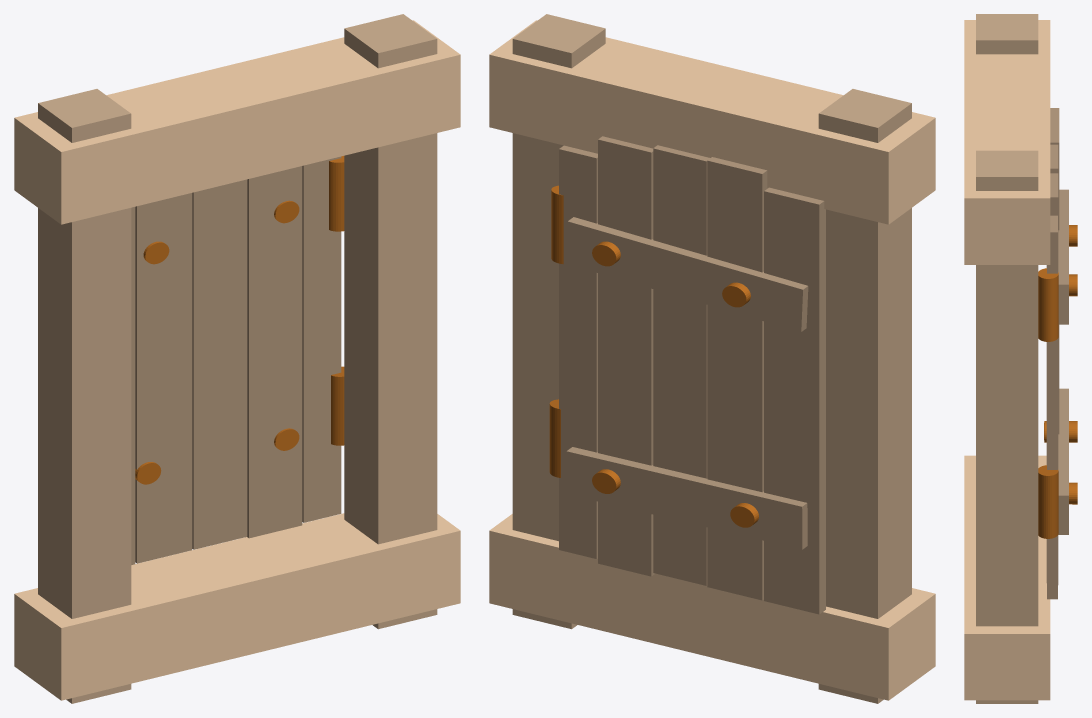
The model's file is Door.fbx.
3 renders of one model, left to right at view 1: azimuth 30°, elevation 25°; view 2: azimuth 150°, elevation 25°; view 3: azimuth 270°, elevation 25°, orthographic. The views are drawn at different scales.
Visible parts, largest first — view 1: Cube.006, Cube.016, Cube.015, Cube.014, Cube.017, Cube.020, Cube.018, Cube.019, Cube.021, Cylinder, Cylinder.001; view 2: Cube.006, Cube.015, Cube.016, Cube.021, Cube.014, Cube.020, Cube.018, Cube.017, Cube.019, Cube.022, Cube.023, Cylinder (+1 smaller); view 3: Cube.014, Cube.006, Cube.016, Cube.019, Cube.015, Cube.023, Cylinder, Cylinder.001, Cube.022, Cube.018, Cube.020, Cube.017 (+3 smaller).
Boxes of the visible parts, x1=… form: Cube.006: x1=14, y1=20, x2=460, y2=224; Cube.016: x1=14, y1=513, x2=460, y2=700; Cube.015: x1=38, y1=89, x2=131, y2=703; Cube.014: x1=344, y1=14, x2=437, y2=629; Cube.017: x1=192, y1=179, x2=247, y2=549; Cube.020: x1=135, y1=193, x2=192, y2=563; Cube.018: x1=247, y1=166, x2=302, y2=538; Cube.019: x1=302, y1=156, x2=341, y2=522; Cube.021: x1=131, y1=207, x2=135, y2=564; Cylinder: x1=329, y1=156, x2=344, y2=231; Cylinder.001: x1=331, y1=366, x2=344, y2=445; Cube.006: x1=489, y1=20, x2=935, y2=224; Cube.015: x1=818, y1=89, x2=911, y2=703; Cube.016: x1=489, y1=514, x2=935, y2=700; Cube.021: x1=764, y1=187, x2=825, y2=614; Cube.014: x1=512, y1=14, x2=605, y2=629; Cube.020: x1=707, y1=157, x2=767, y2=600; Cube.018: x1=598, y1=136, x2=655, y2=576; Cube.017: x1=653, y1=145, x2=709, y2=585; Cube.019: x1=559, y1=145, x2=597, y2=558; Cube.022: x1=566, y1=217, x2=808, y2=331; Cube.023: x1=566, y1=447, x2=807, y2=549; Cylinder: x1=551, y1=185, x2=563, y2=264; Cube.014: x1=976, y1=150, x2=1038, y2=703; Cube.006: x1=964, y1=20, x2=1050, y2=264; Cube.016: x1=964, y1=455, x2=1050, y2=700; Cube.019: x1=1047, y1=215, x2=1057, y2=599; Cube.015: x1=976, y1=14, x2=1038, y2=54; Cube.023: x1=1058, y1=388, x2=1068, y2=534; Cylinder: x1=1038, y1=268, x2=1058, y2=341; Cylinder.001: x1=1038, y1=465, x2=1058, y2=538; Cube.022: x1=1058, y1=189, x2=1068, y2=324; Cube.018: x1=1046, y1=173, x2=1058, y2=584; Cube.020: x1=1050, y1=118, x2=1059, y2=434; Cube.017: x1=1050, y1=144, x2=1058, y2=173.
Size of the model in its own units: 77.23 by 106 by 20.79.
